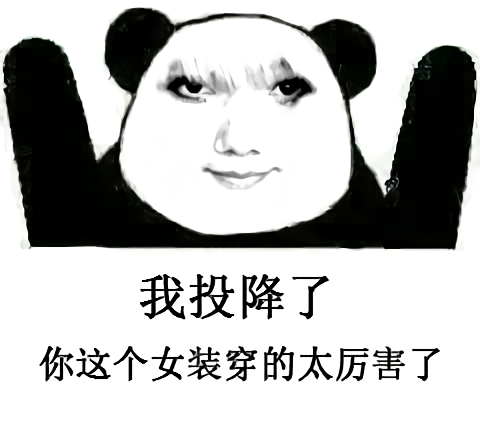dragon: (156, 55, 319, 198)
